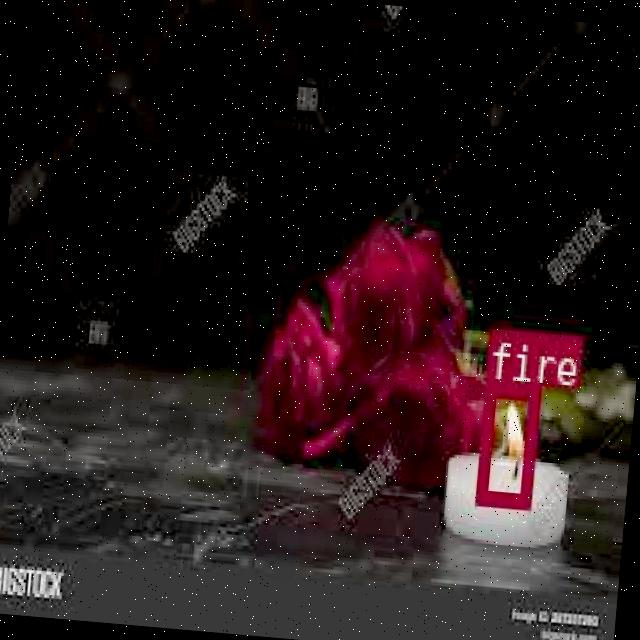fire: (472, 378, 538, 504)
